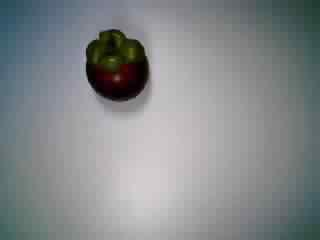mangosteen: (75, 26, 153, 102)
